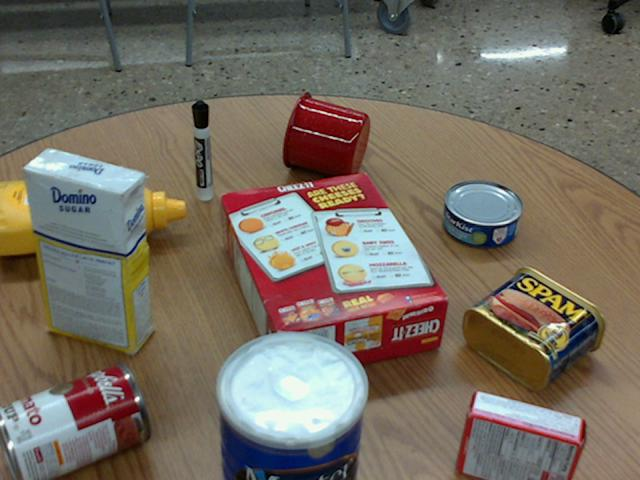cracker_box: (218, 173, 447, 377)
gelatin_box: (456, 389, 585, 479)
large_marker: (191, 101, 211, 200)
master_chef_can: (213, 332, 364, 479)
mug: (283, 92, 369, 179)
mustard_bottle: (0, 179, 184, 255)
potted_meat_can: (464, 266, 605, 390)
sugar_box: (23, 148, 150, 354)
tomato_soup_can: (0, 361, 150, 479)
tuna_fish_can: (443, 180, 523, 246)
